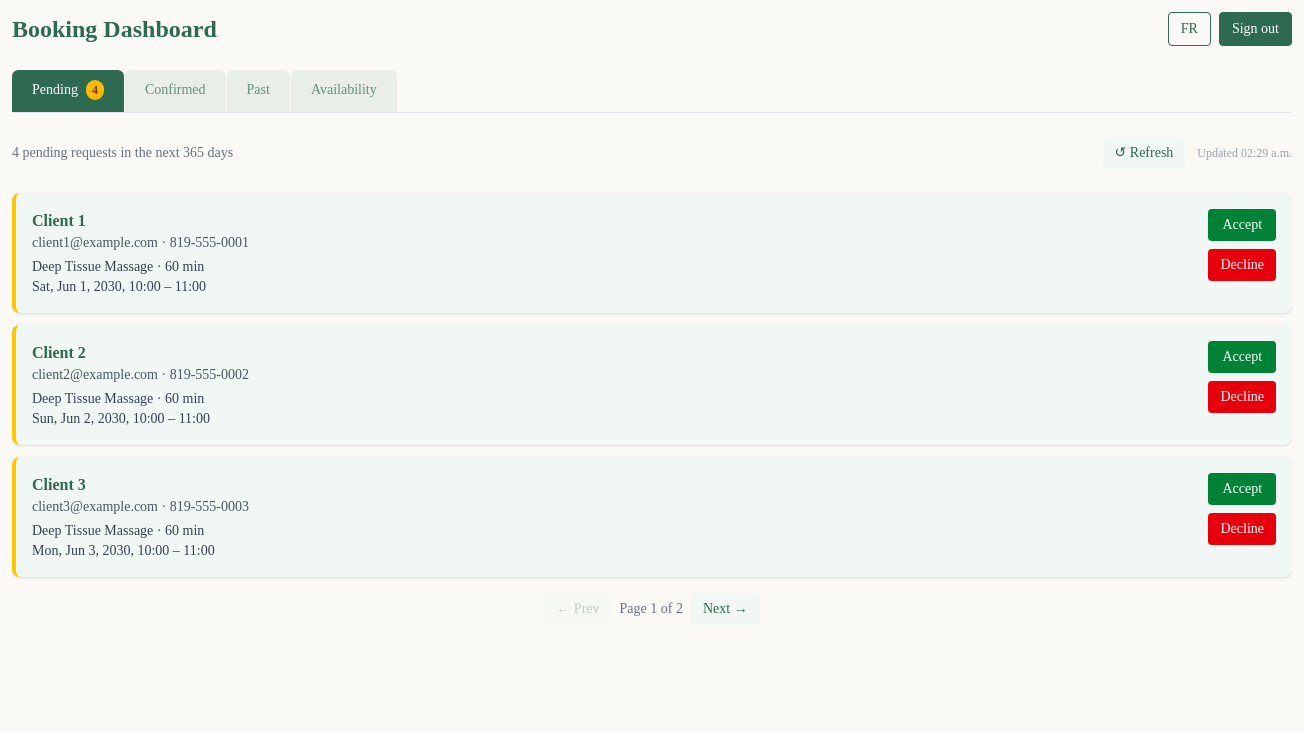
Test: AdminDashboard › Pending tab — pagination › clicking Next shows second page
Click the button with test id "pending-next": (725,609) left=691, top=593, right=760, bottom=625
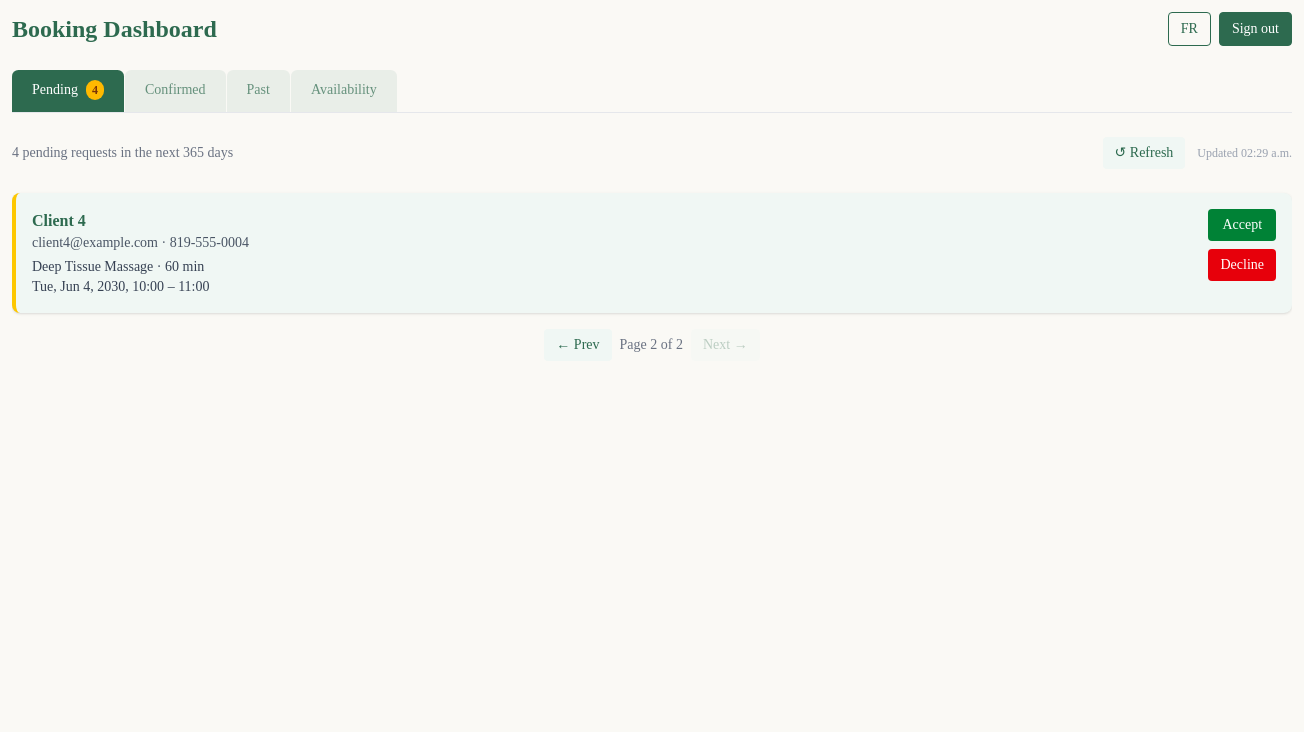
Now the text "Client 1" is gone
Now the text with test id "pending-page-label" reads "Page 2 of 2", box left=620, top=337, right=683, bottom=352
